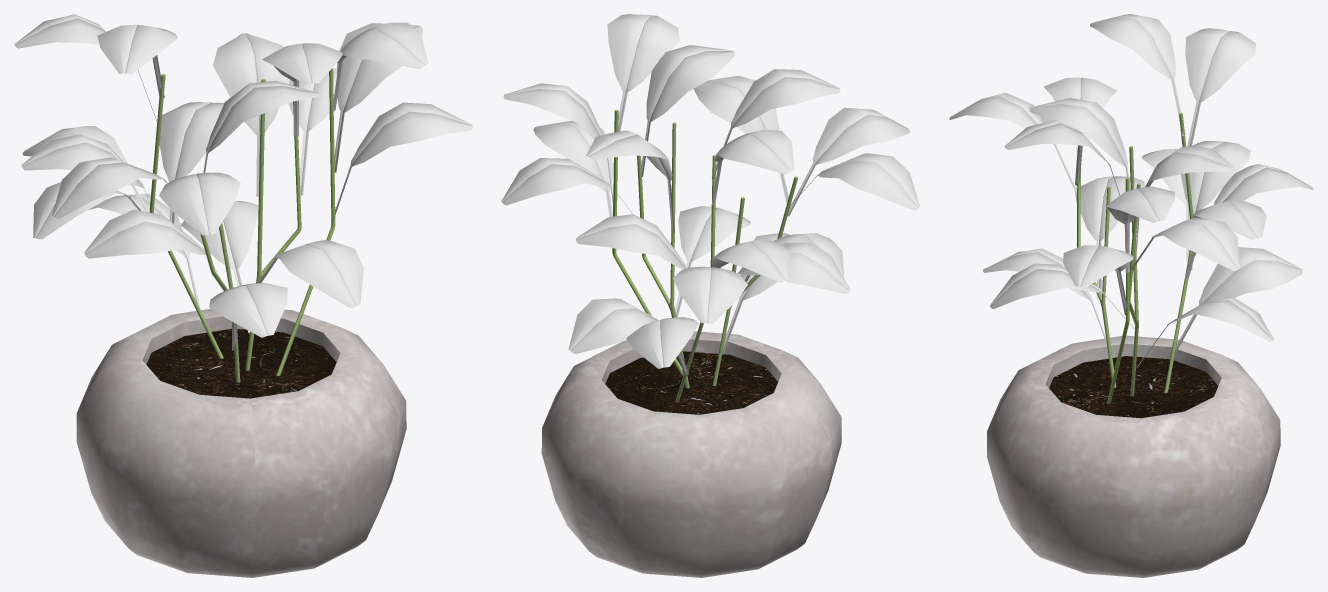
Rendered from Plants_Pots_6.fbx.
3 renders of one model, left to right at view 1: azimuth 30°, elevation 25°; view 2: azimuth 150°, elevation 25°; view 3: azimuth 270°, elevation 25°, orthographic. The views are drawn at different scales.
Parts seen in each view (by area): view 1: Cylinder.018; view 2: Cylinder.018; view 3: Cylinder.018.
Part boxes in pixels (box(x1,y1,x2,y2)): Cylinder.018: box(14, 14, 472, 577); Cylinder.018: box(501, 14, 920, 577); Cylinder.018: box(949, 14, 1313, 577).
Size of the model in its own units: 88.69 by 108 by 74.72.
